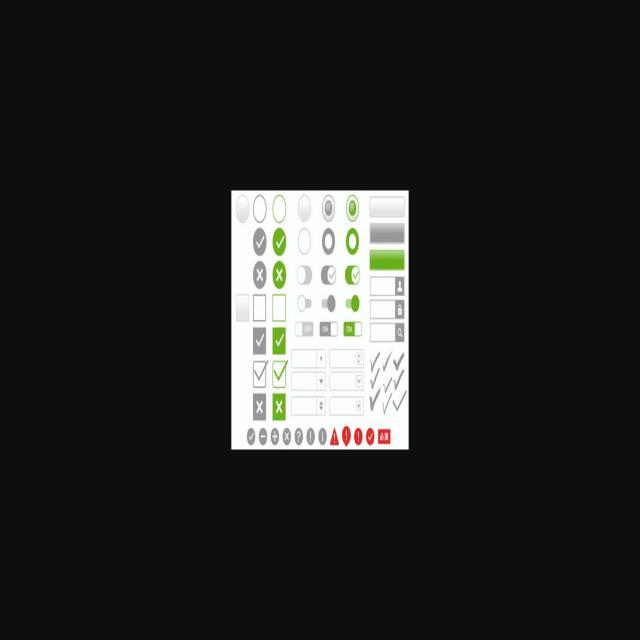checkbox: (271, 359, 288, 389), (251, 360, 268, 389), (271, 326, 287, 356), (252, 328, 266, 358), (253, 227, 267, 257), (272, 228, 286, 257), (246, 426, 256, 446)
radio: (344, 194, 360, 221), (321, 194, 335, 223), (321, 228, 336, 255), (346, 228, 360, 255)
toggle: (342, 265, 362, 285), (296, 264, 314, 286), (320, 265, 338, 286), (296, 294, 313, 316), (343, 292, 361, 312), (321, 294, 337, 313)
